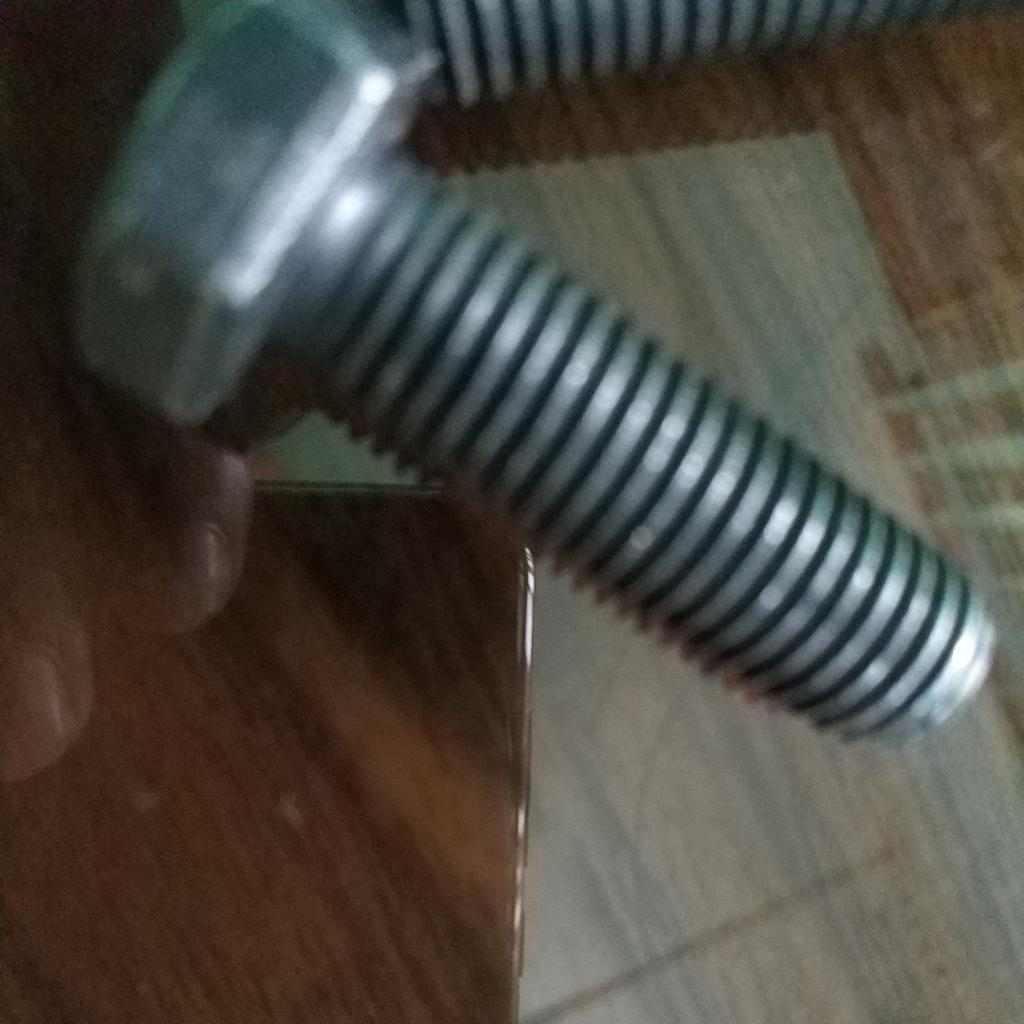screwtype2black: (65, 1, 998, 744)
